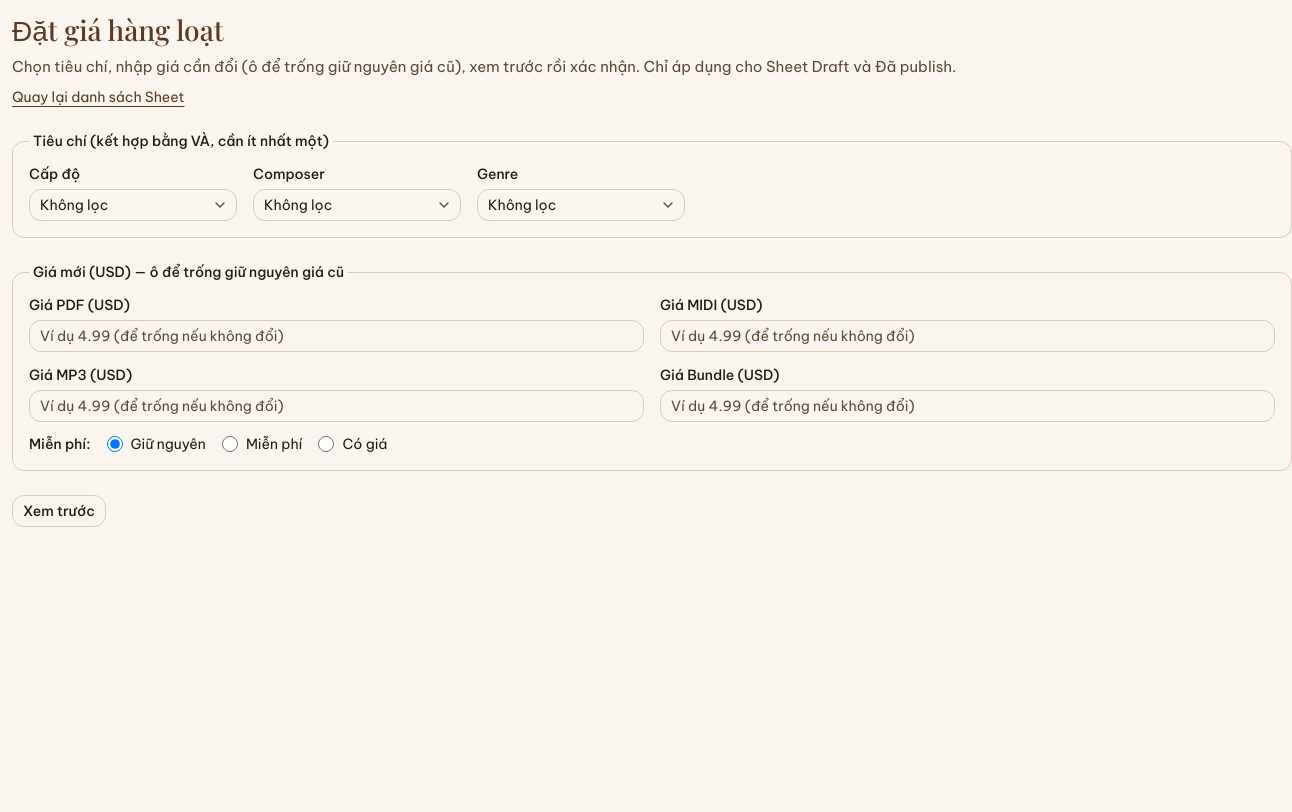
Test: Trang đặt giá hàng loạt › 409 lệch số lượng: xoá bản xem trước và yêu cầu xem lại
Click the dropdown named "Cấp độ" at point(133, 205), box [29, 189, 237, 221]
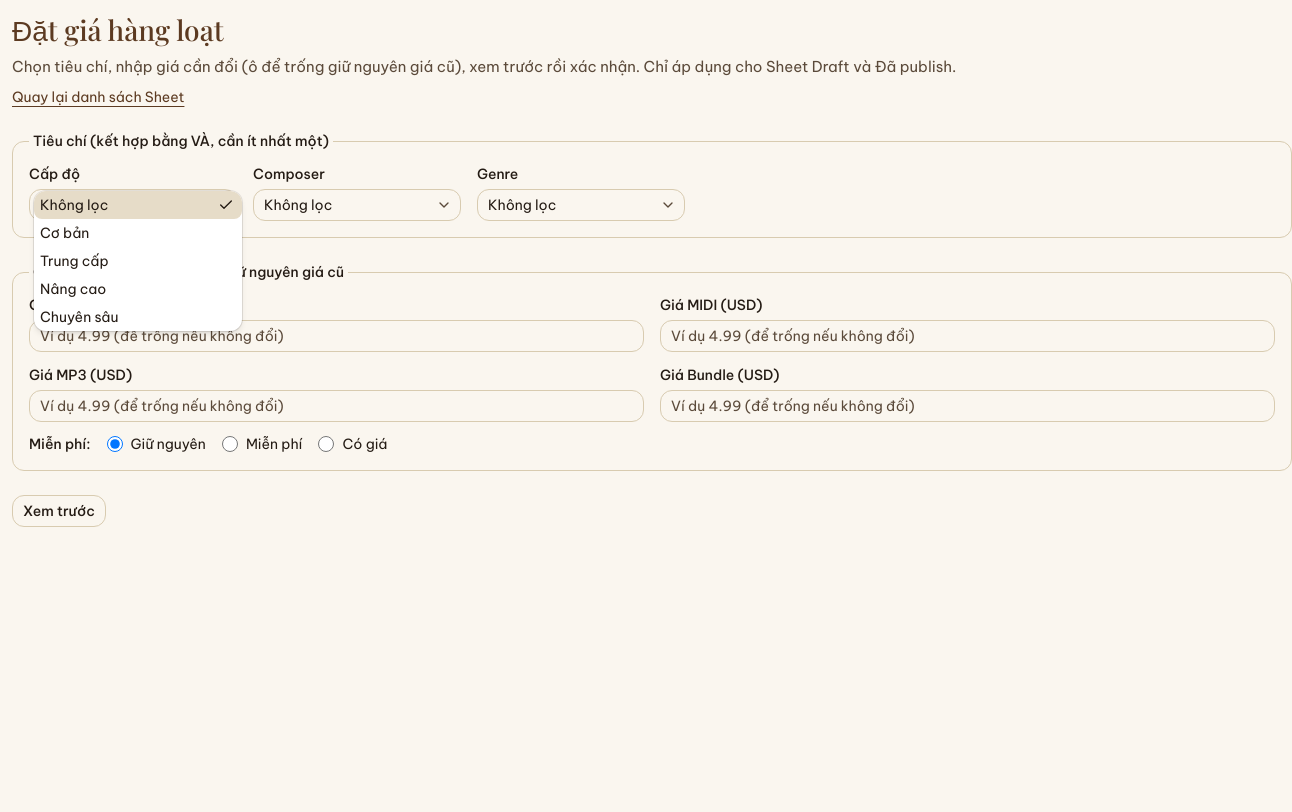
Click the option "Cơ bản" at point(65, 233), box [40, 224, 89, 242]
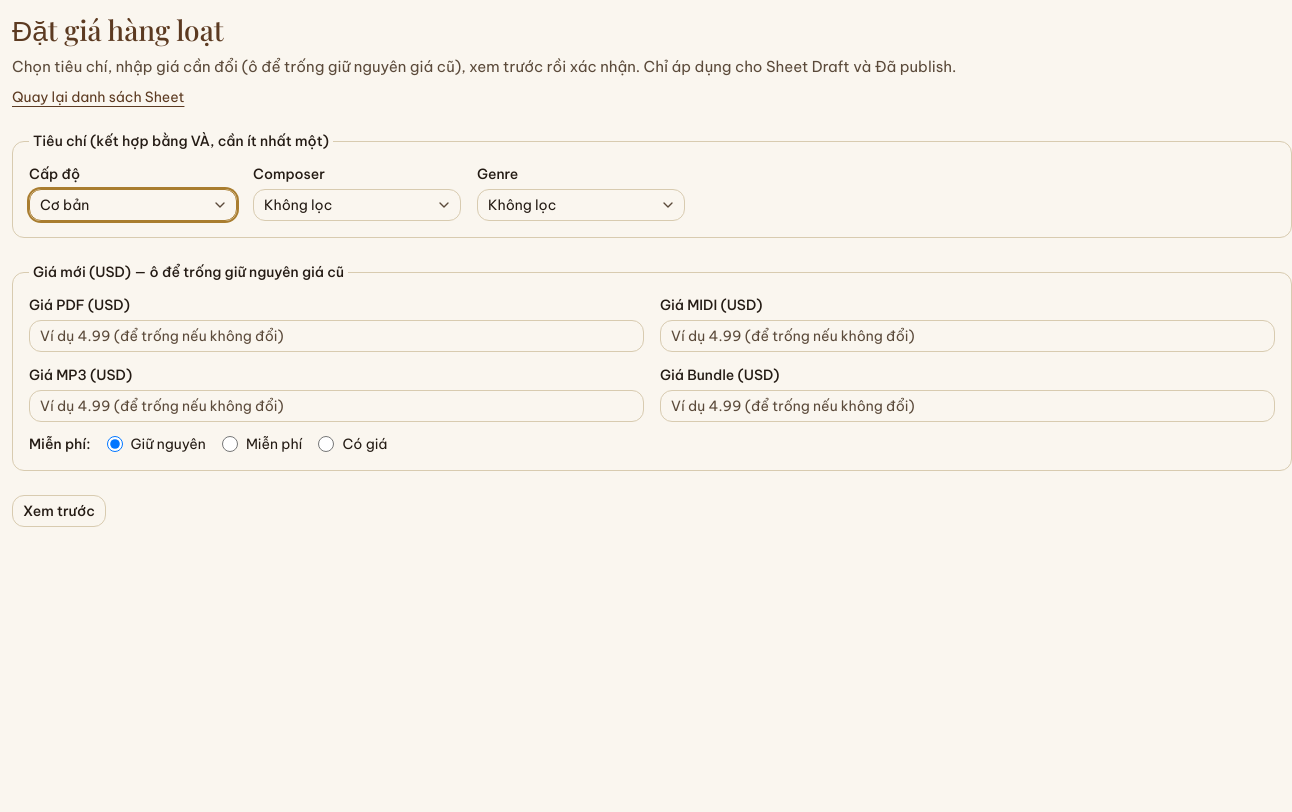
Click the radio button labelled "Miễn phí" at point(230, 444), box [222, 436, 238, 452]
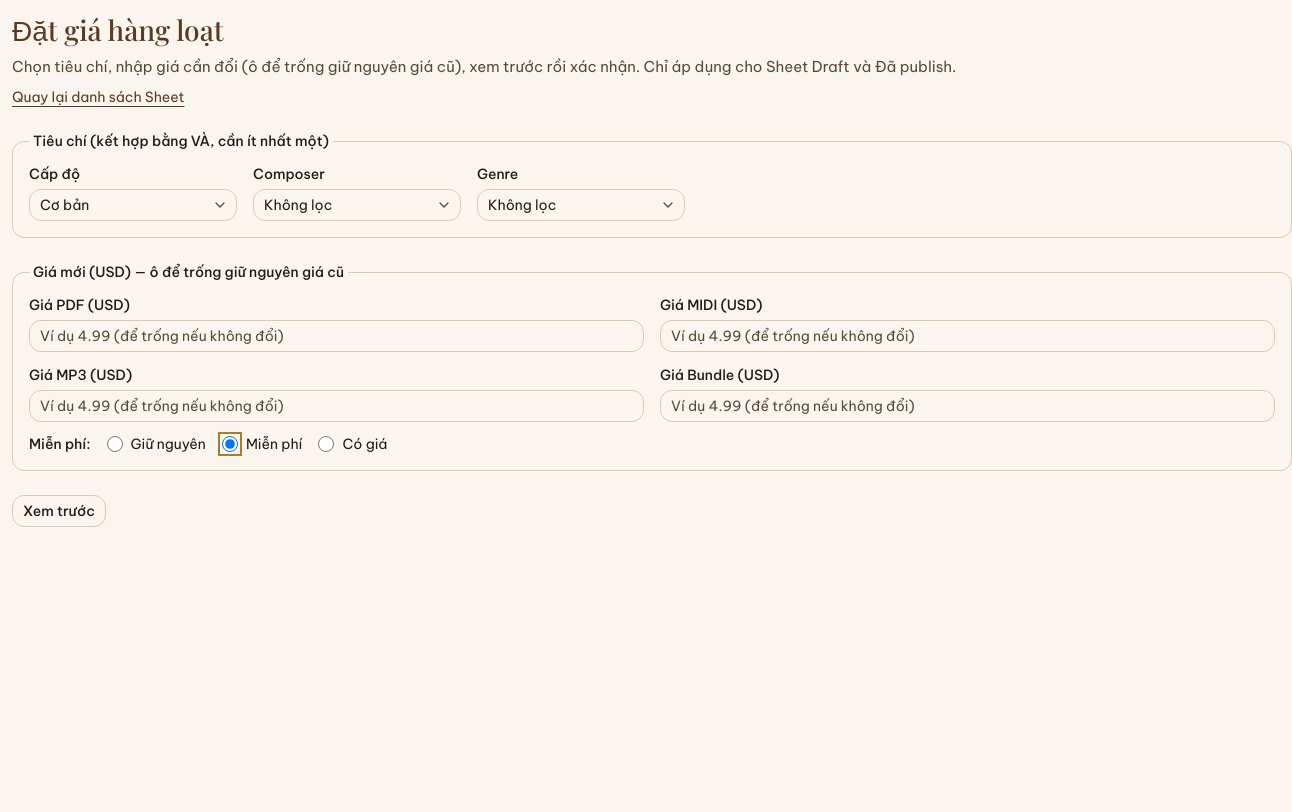
Click the button "Xem trước" at point(59, 511), box [12, 495, 106, 527]
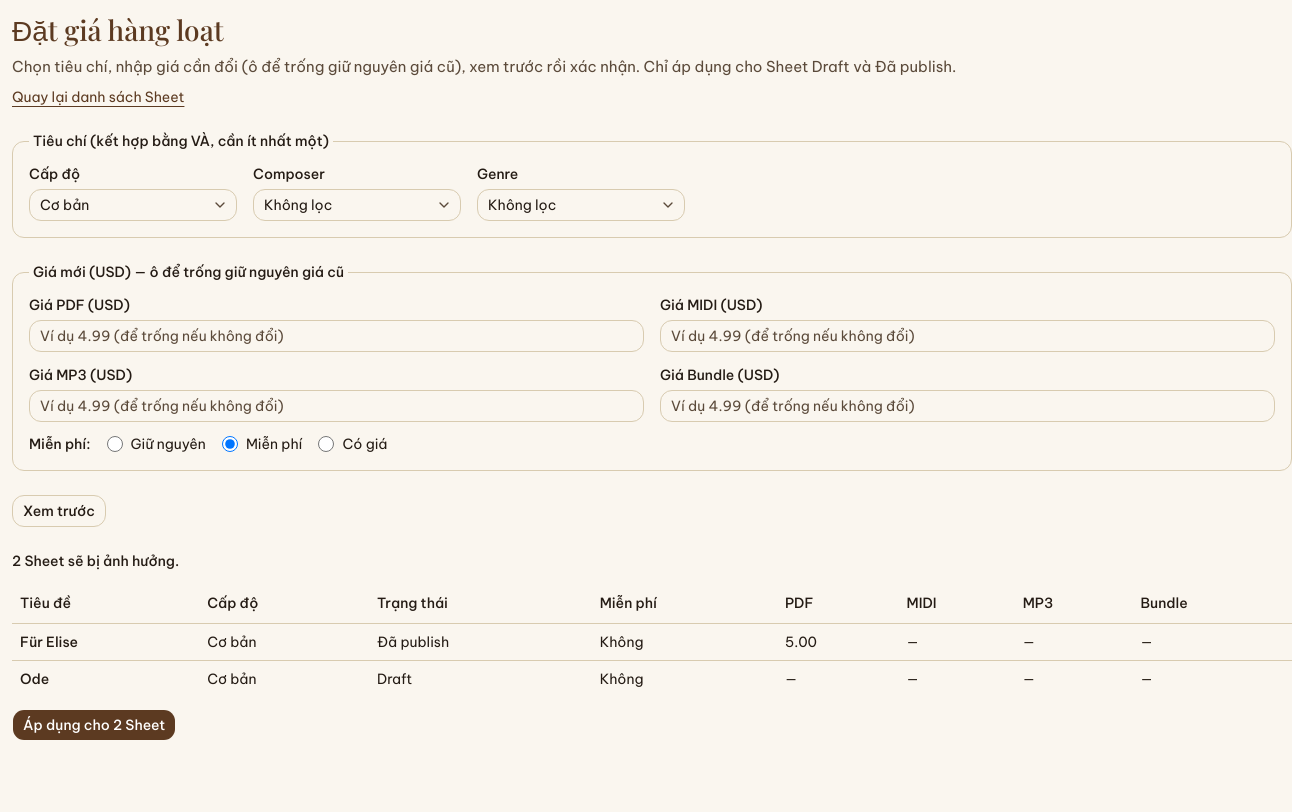
Click the button "Áp dụng cho 2 Sheet" at point(94, 724), box [12, 708, 176, 740]
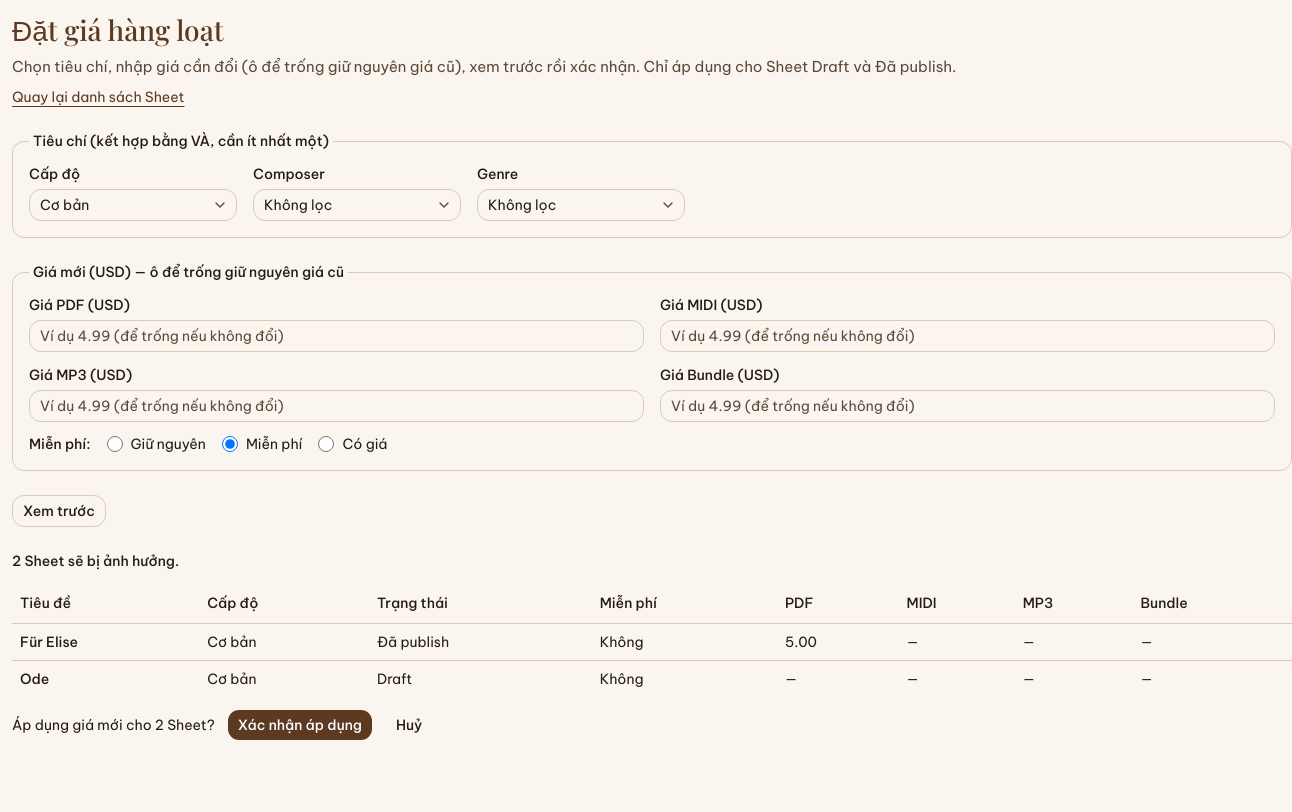
Click the button "Xác nhận áp dụng" at point(300, 724), box [227, 708, 373, 740]
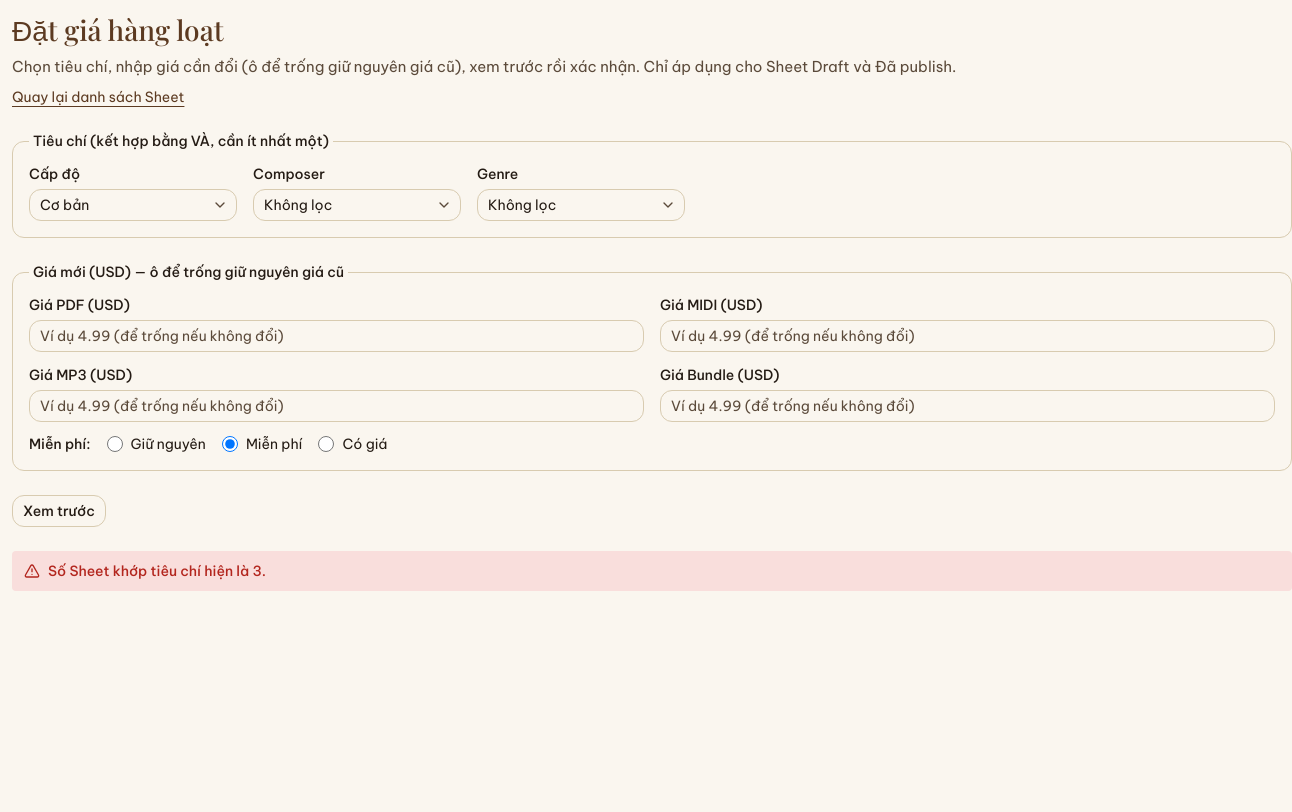
expect the button "Áp dụng cho" is not shown: met
expect the message shows "hiện là 3": met, box [48, 562, 266, 580]
